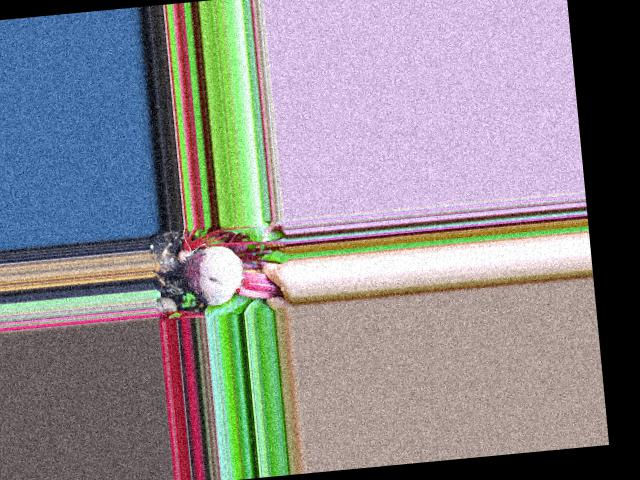beet: (150, 239, 283, 310)
